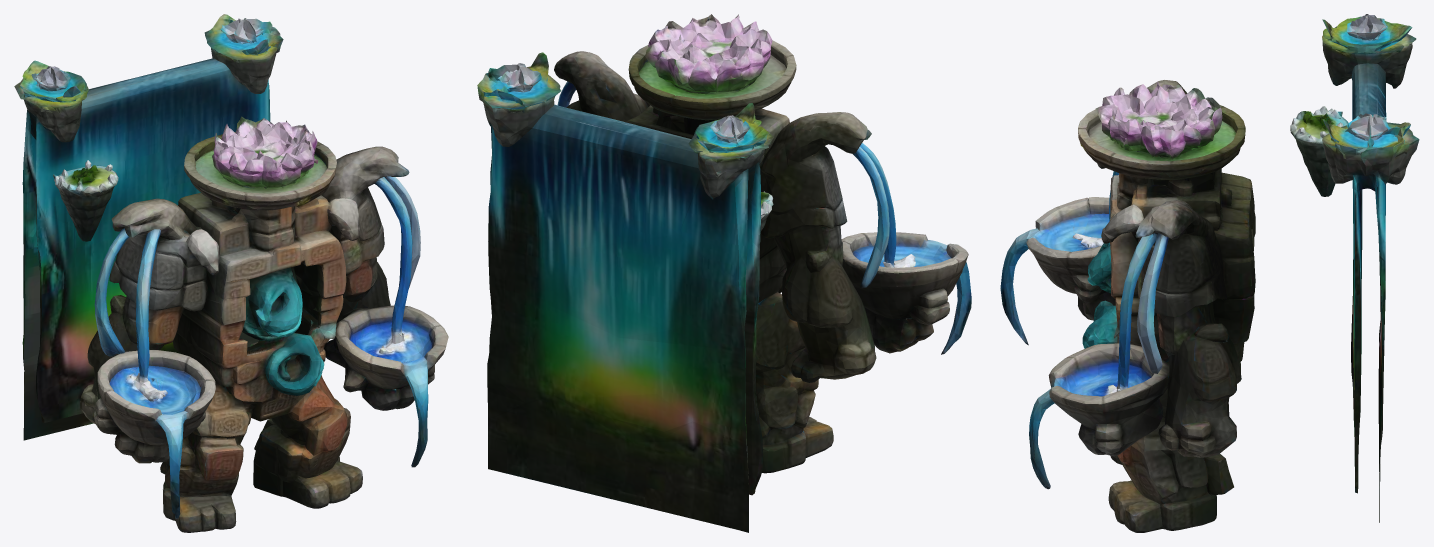
File: bulwyrm__cascadeTitan.glb
The picture shows the model from 3 angles, left to right: view 1: azimuth 30°, elevation 25°; view 2: azimuth 150°, elevation 25°; view 3: azimuth 270°, elevation 25°; orthographic projection. The views are drawn at different scales.
Visible parts, largest first — view 1: world; view 2: world; view 3: world.
Boxes of the visible parts, x1,y1,x2,y2 form: world: [14, 14, 448, 532]; world: [477, 14, 971, 532]; world: [1000, 14, 1419, 532].
Bounding box in the file's own units: 0.9238 × 0.9996 × 0.9101.
1 material, 1 textured.
